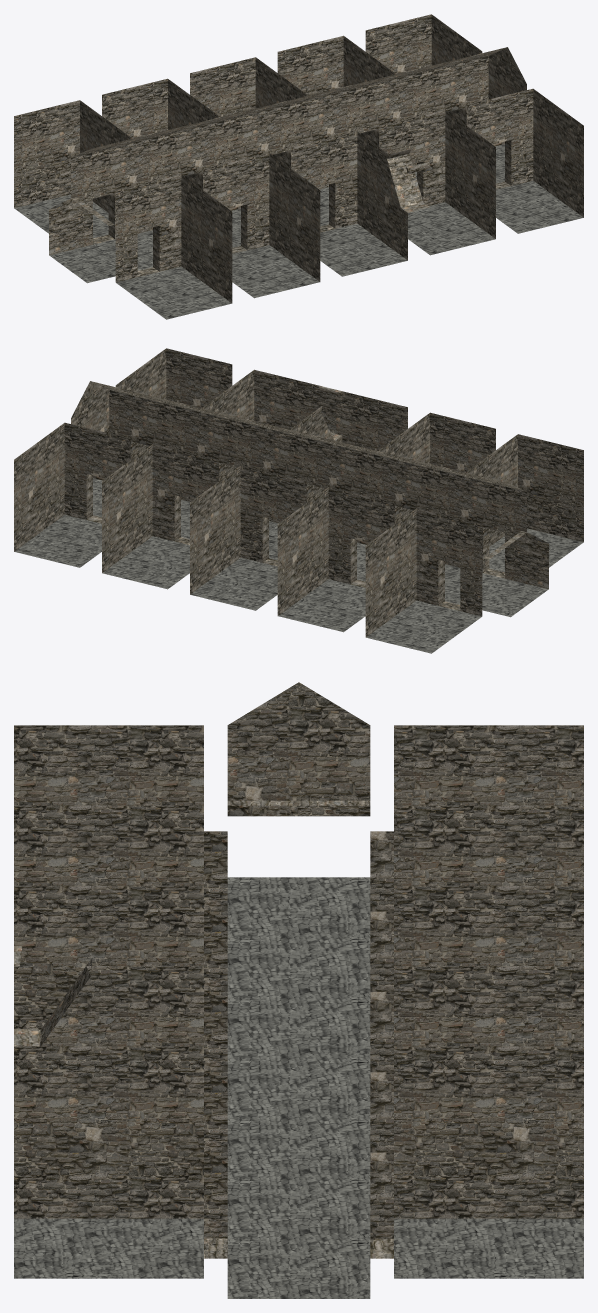
File: room7.gltf
3 views of the same model, one above another, from view 1: azimuth 30°, elevation 25°; view 2: azimuth 150°, elevation 25°; view 3: azimuth 270°, elevation 25° (orthographic). The views are drawn at different scales.
Visible parts, largest first — view 1: Cube, Plane.001; view 2: Cube, Plane.001; view 3: Cube, Plane.001.
Boxes of the visible parts, left/top/right/bottom form: Cube: left=14, top=14, right=583, bottom=319; Plane.001: left=49, top=47, right=526, bottom=283; Cube: left=14, top=348, right=583, bottom=653; Plane.001: left=71, top=381, right=548, bottom=617; Cube: left=14, top=725, right=583, bottom=1278; Plane.001: left=227, top=682, right=370, bottom=1298.
Bounding box in the file's own units: 21 × 5 × 12.
2 materials, 2 textured.
